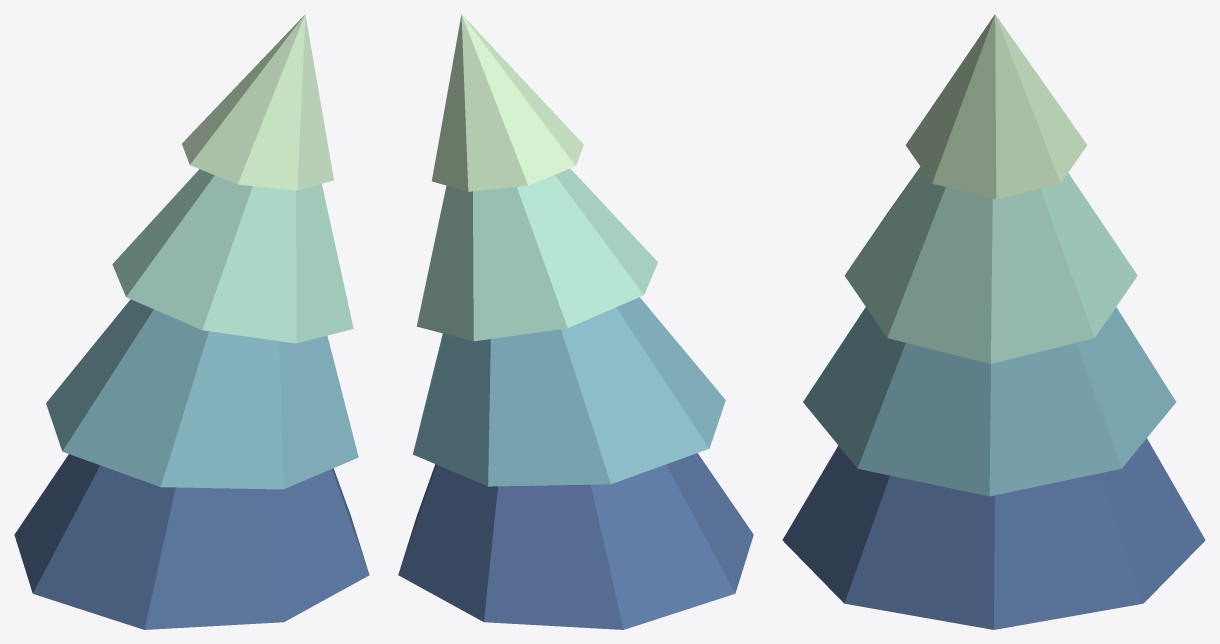
The model's file is 01_01Tree_Blue.fbx.
The picture shows the model from 3 angles, left to right: view 1: azimuth 30°, elevation 25°; view 2: azimuth 150°, elevation 25°; view 3: azimuth 270°, elevation 25°; orthographic projection. The views are drawn at different scales.
Visible parts, largest first — view 1: Cone.001; view 2: Cone.001; view 3: Cone.001.
Part boxes in pixels (x1,y1,x2,y2): Cone.001: [14, 14, 369, 629]; Cone.001: [398, 14, 753, 629]; Cone.001: [782, 14, 1205, 629].
Bounding box in the file's own units: 125 × 192 × 125.
